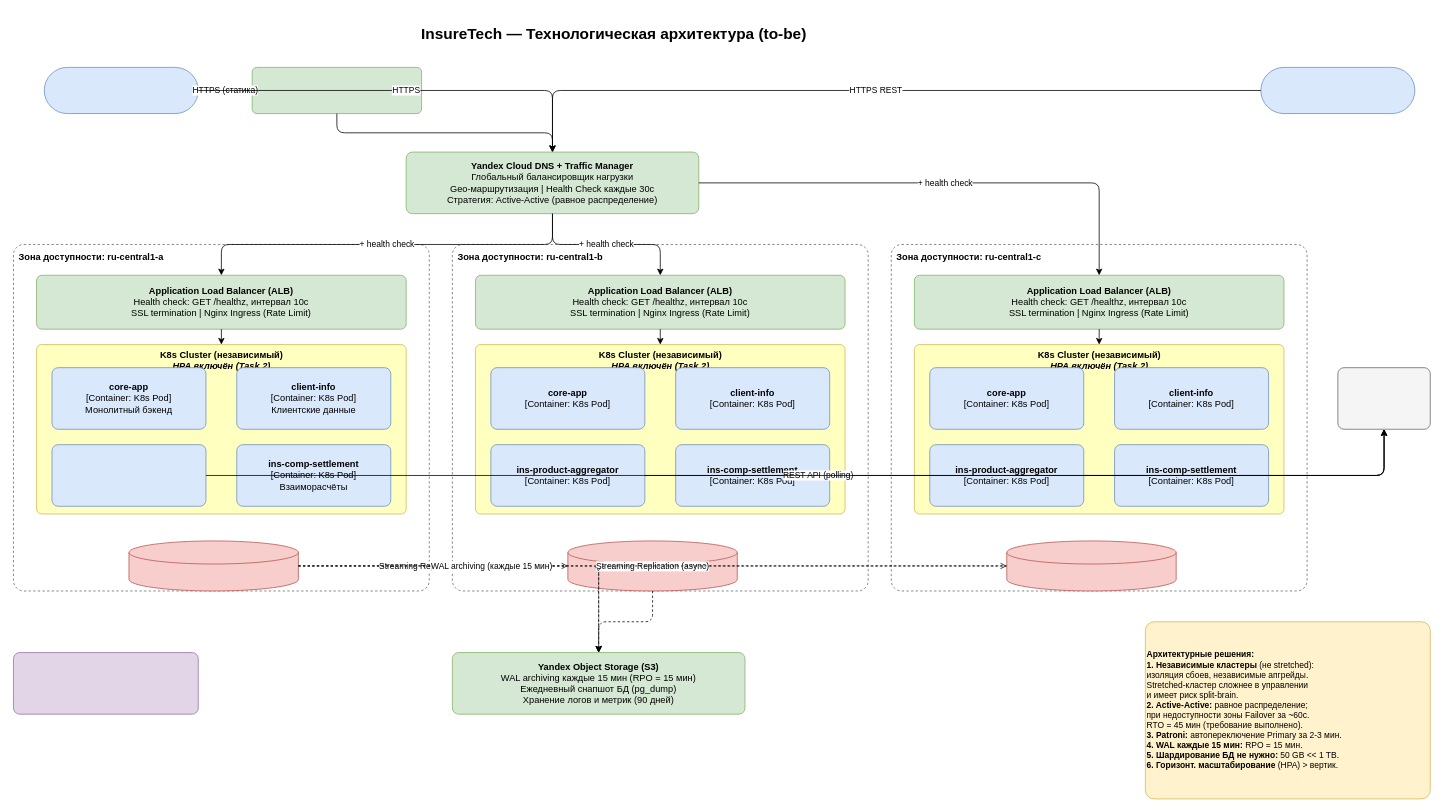
Some shapes in this 1444 by 812 pixel diagram are drawn without their labels. Each missing label, with the box of its shape:
B2B Партнёры REST API клиенты (SLA): (1260, 67, 1415, 114)
ins-product-aggregator [Container: K8s Pod] Агрегация продуктов: (51, 444, 206, 506)
Monitoring Stack Prometheus + Grafana Алерты: PagerDuty / Telegram: (13, 652, 198, 714)
PostgreSQL Primary Patroni (auto-failover): (128, 540, 298, 591)
PostgreSQL Standby-1 Patroni (sync standby): (567, 540, 737, 591)
PostgreSQL Standby-2 Patroni (async standby): (1006, 540, 1176, 591)
Yandex CDN Статика, кэш страниц Edge POP по всей РФ: (251, 67, 422, 114)
Клиенты (B2C) Веб-браузер / мобильное приложение: (44, 67, 198, 114)
Страховые компании (5 партнёров) [External: REST API]: (1337, 367, 1430, 429)
